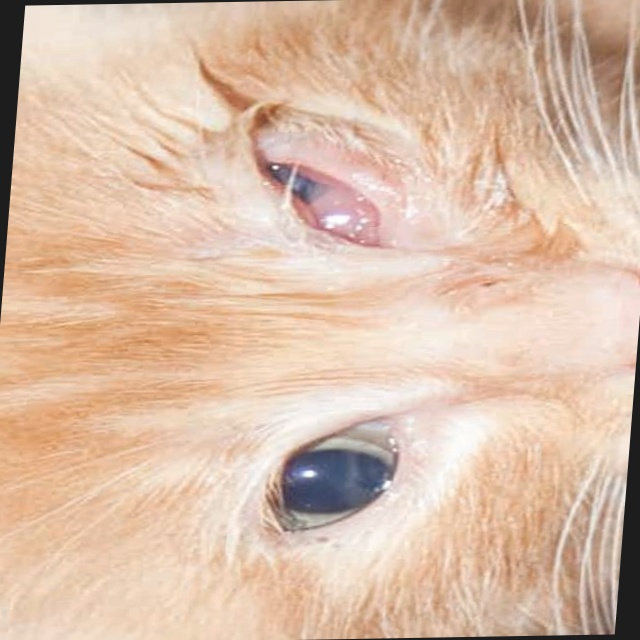eye_infection: (264, 410, 408, 539), (256, 157, 392, 240)
